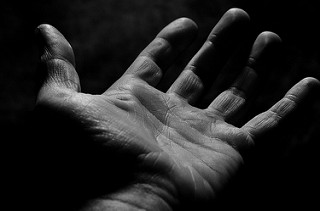palm: (82, 73, 240, 198)
